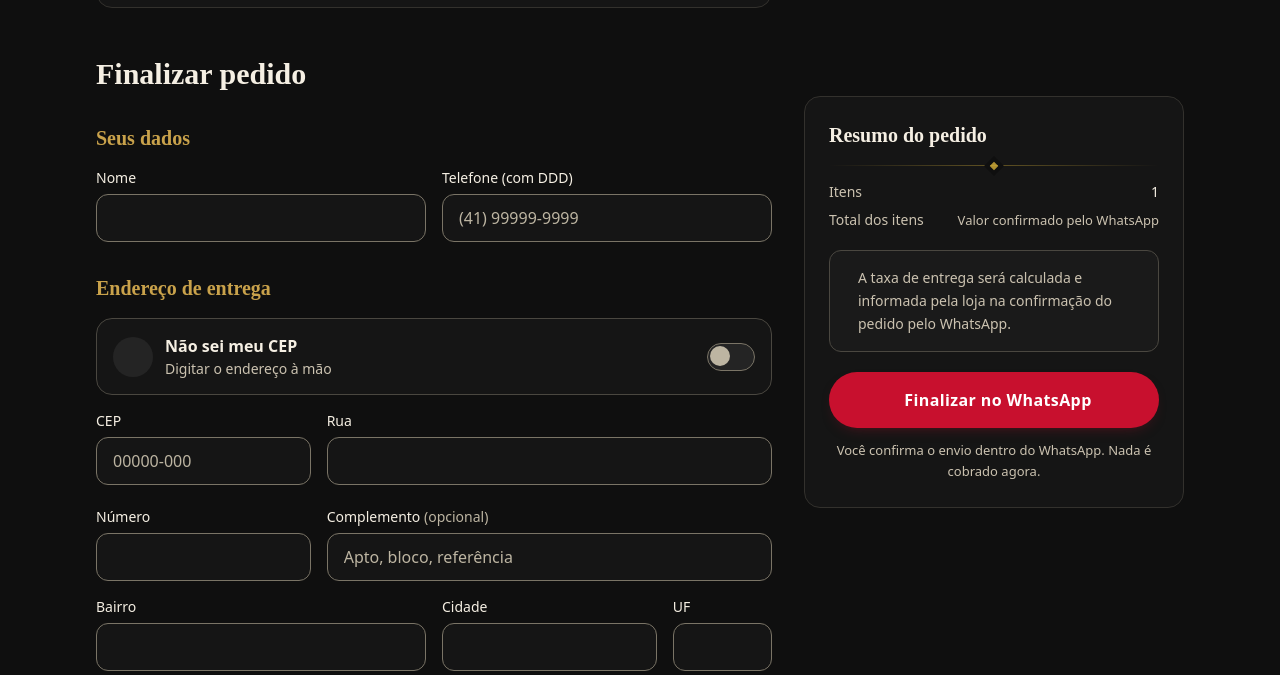
Test: Checkout: endereço manual ("Não sei meu CEP") › com o modo manual desligado o CEP volta a ser obrigatório e o que foi digitado é mantido
(page scrolled)
Click the switch with id "field-manualAddress" at (133, 357), box [96, 318, 772, 395]
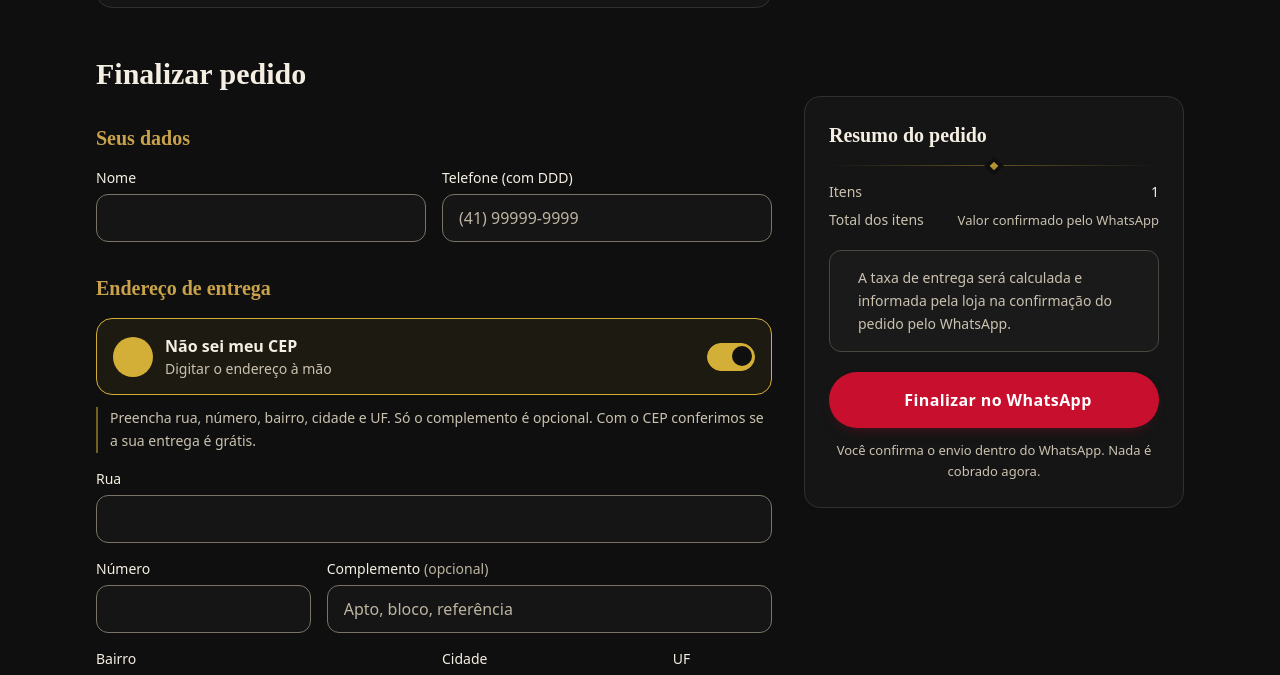
Type "Rua Digitada" into the field with id "field-street" at (434, 519), box [96, 495, 772, 543]
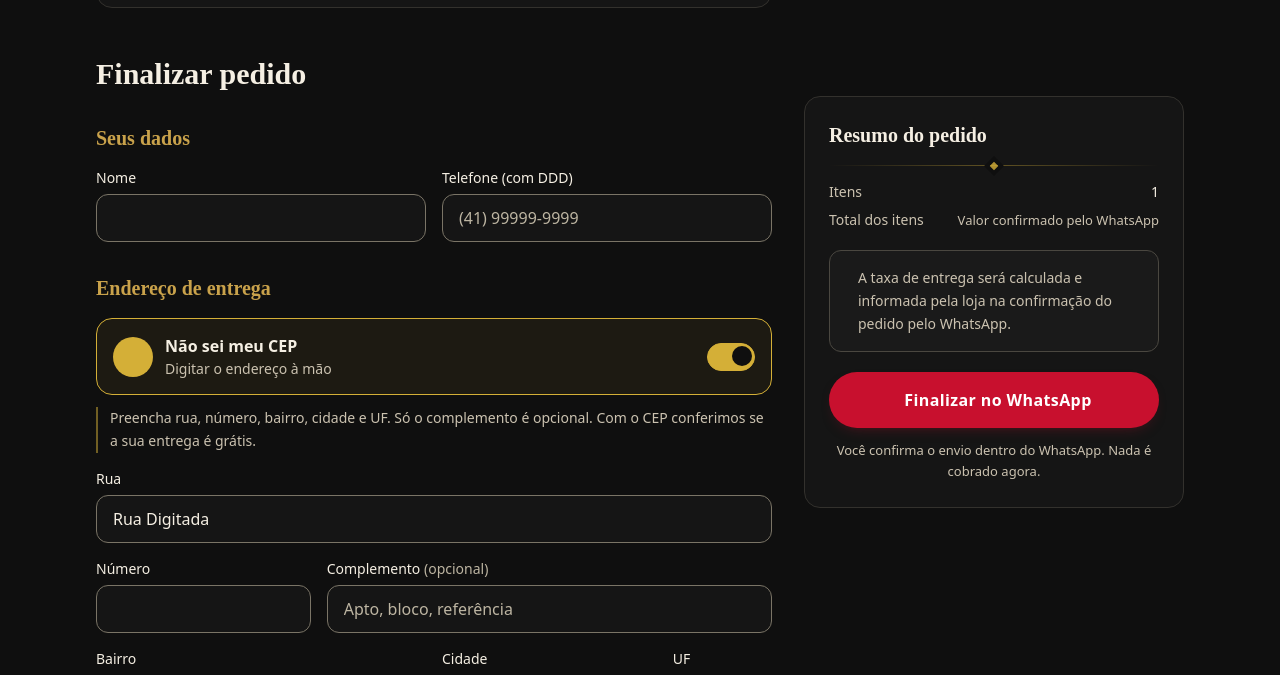
Click the switch with id "field-manualAddress" at (133, 357), box [96, 318, 772, 395]
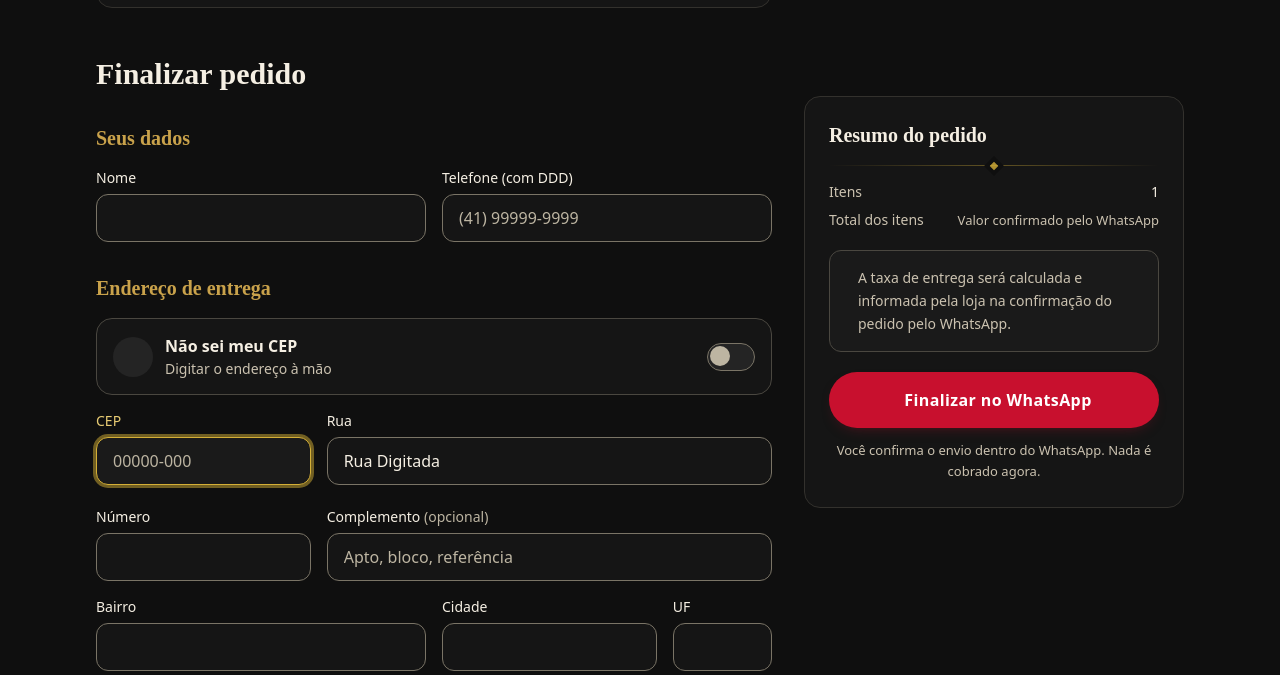
Check: the field with id "field-cep" is shown, box [96, 437, 311, 485]
